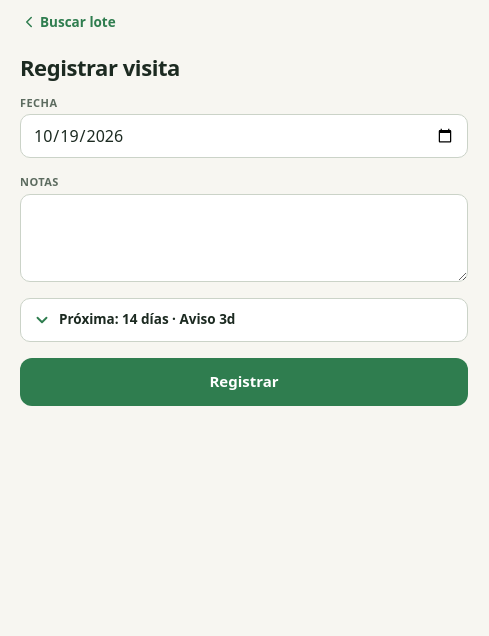
Test case: RecordVisitScreen › ofrece presets de aviso (0/1/3/7) y tocar uno llena el input de lead
Click the button "Próxima: 14 días · Aviso 3d": point(147, 319) [20, 298, 468, 342]
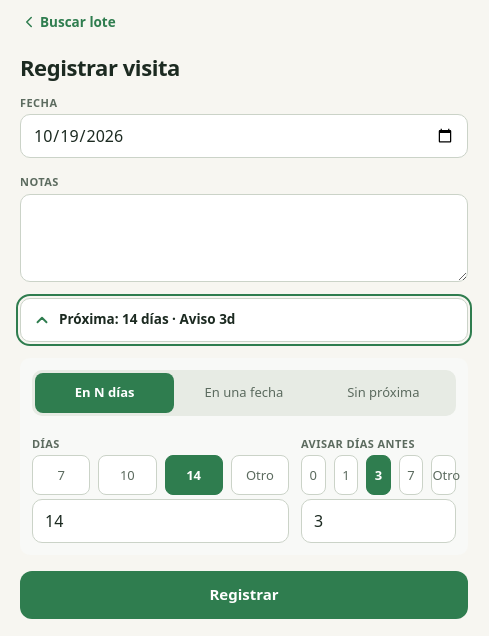
Click the button "1": point(346, 475) [334, 455, 358, 495]
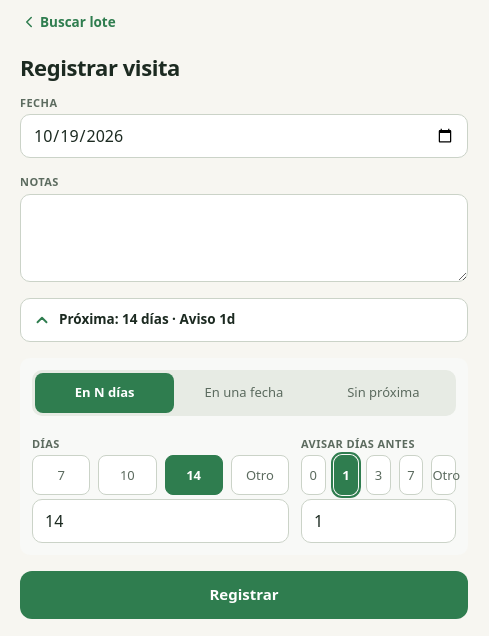
Expected: the number field labelled "Avisar días antes" holds "1", [301, 499, 456, 543]
Click the button "3": point(378, 475) [366, 455, 391, 495]
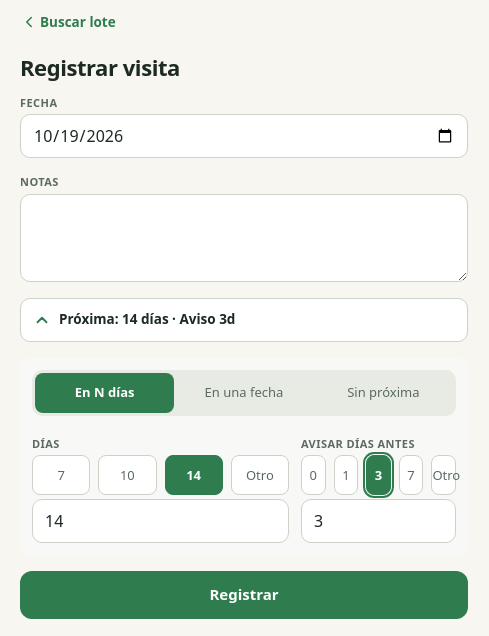
Expected: the number field labelled "Avisar días antes" holds "3", [301, 499, 456, 543]
